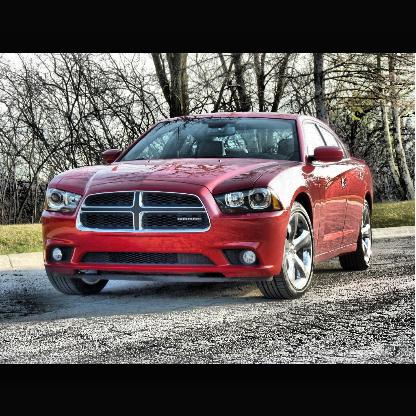Dodge Charger Sedan 2012: (41, 107, 379, 301)
